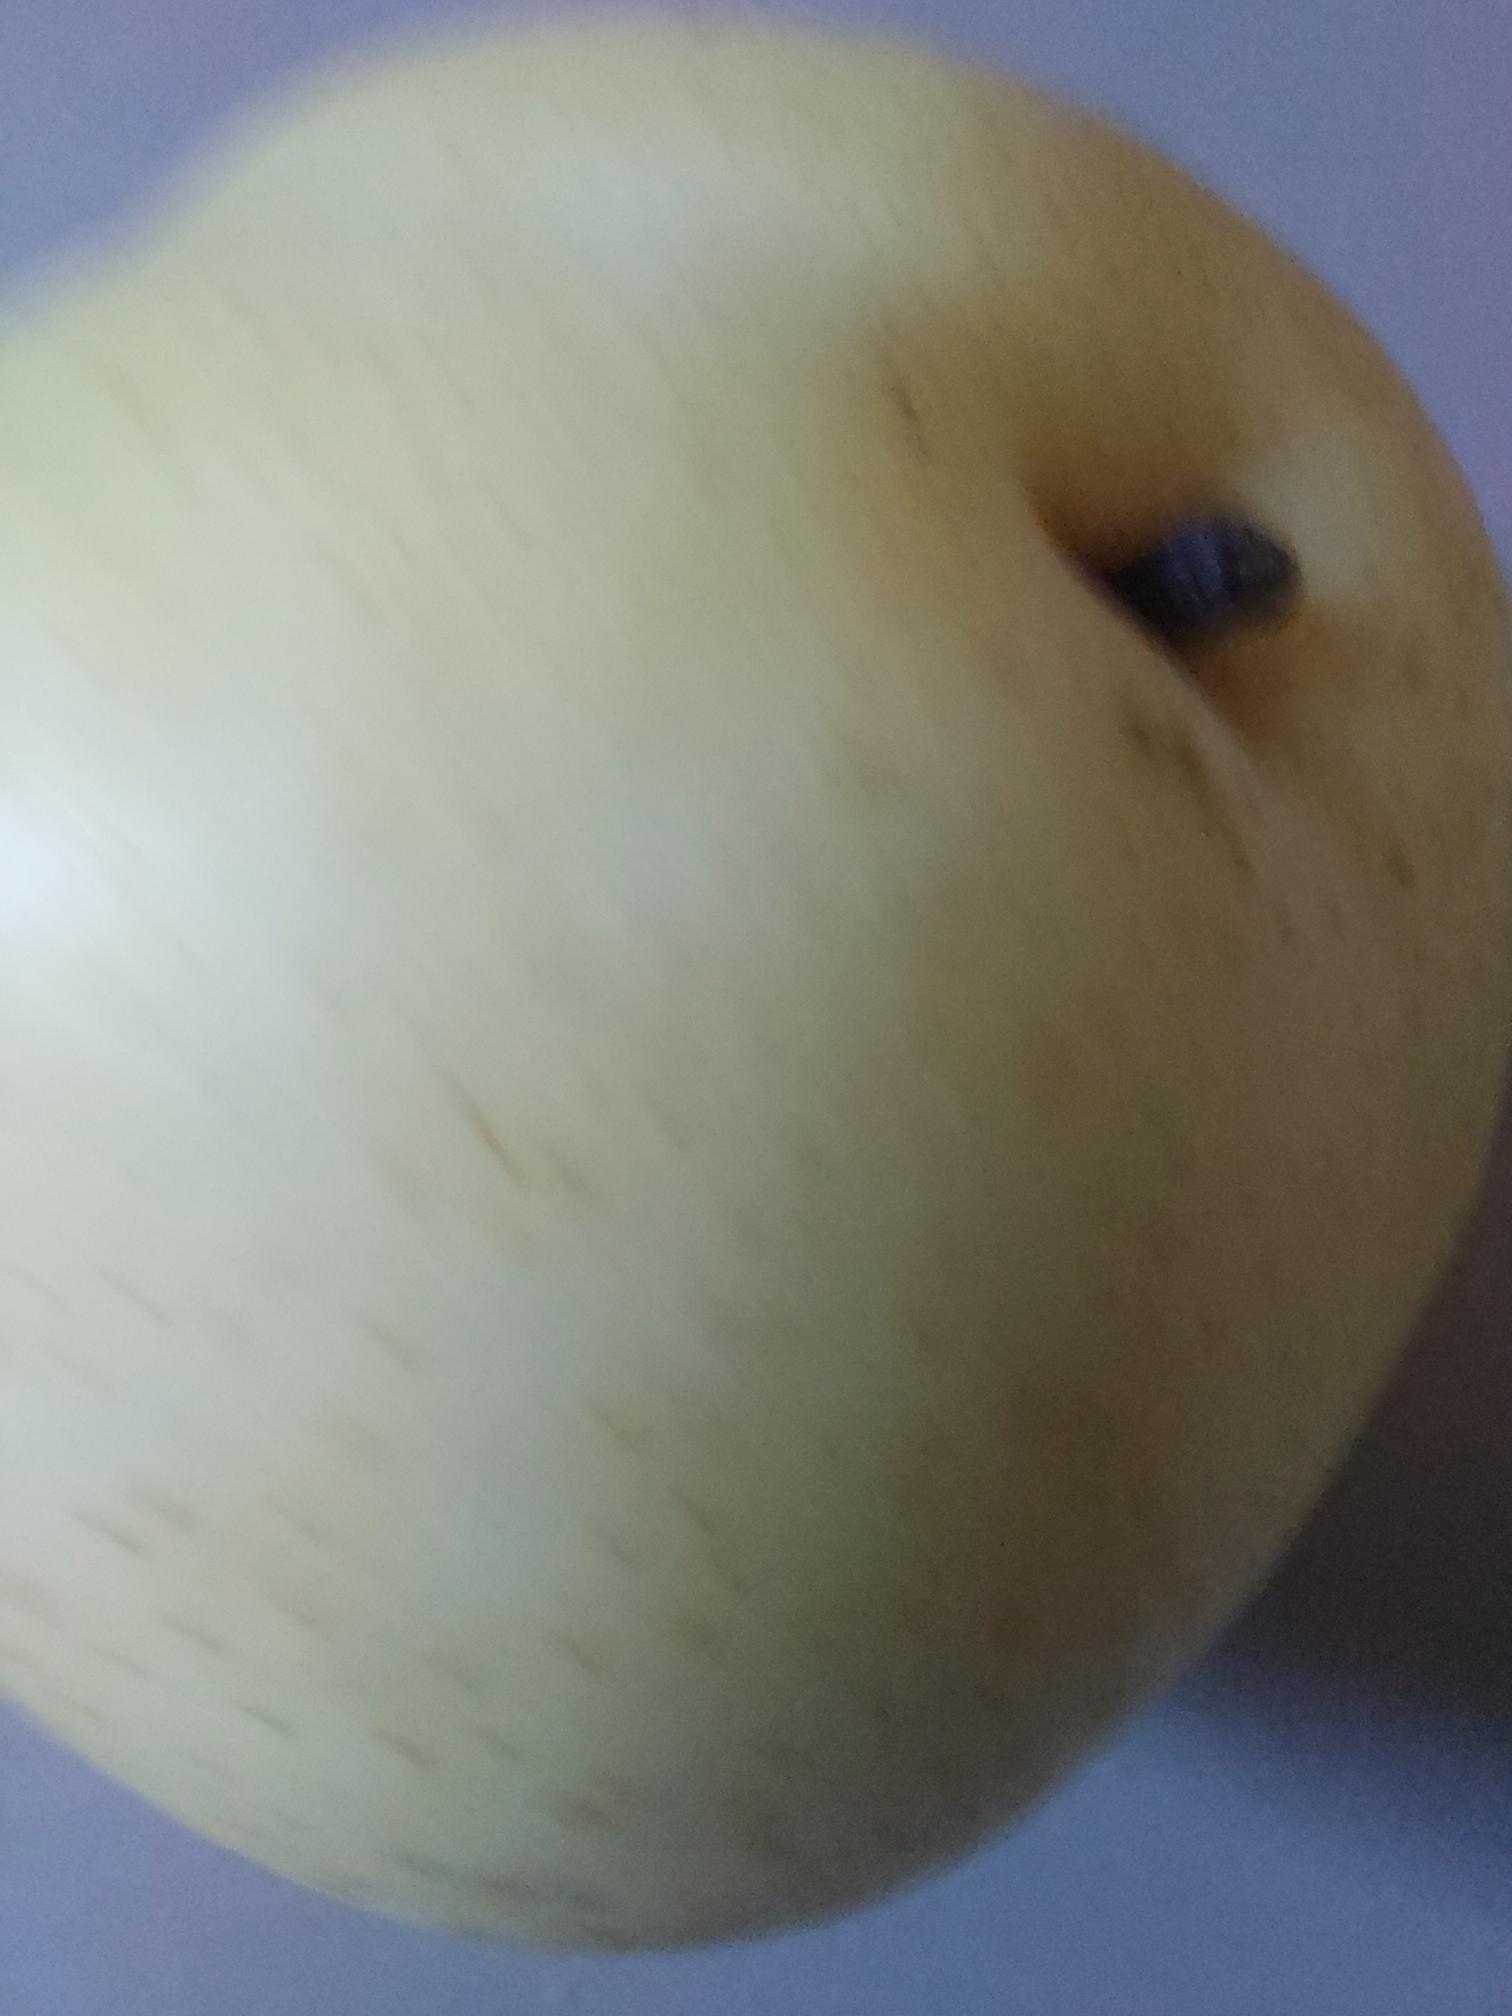Good Pear: (0, 6, 1512, 1945)
